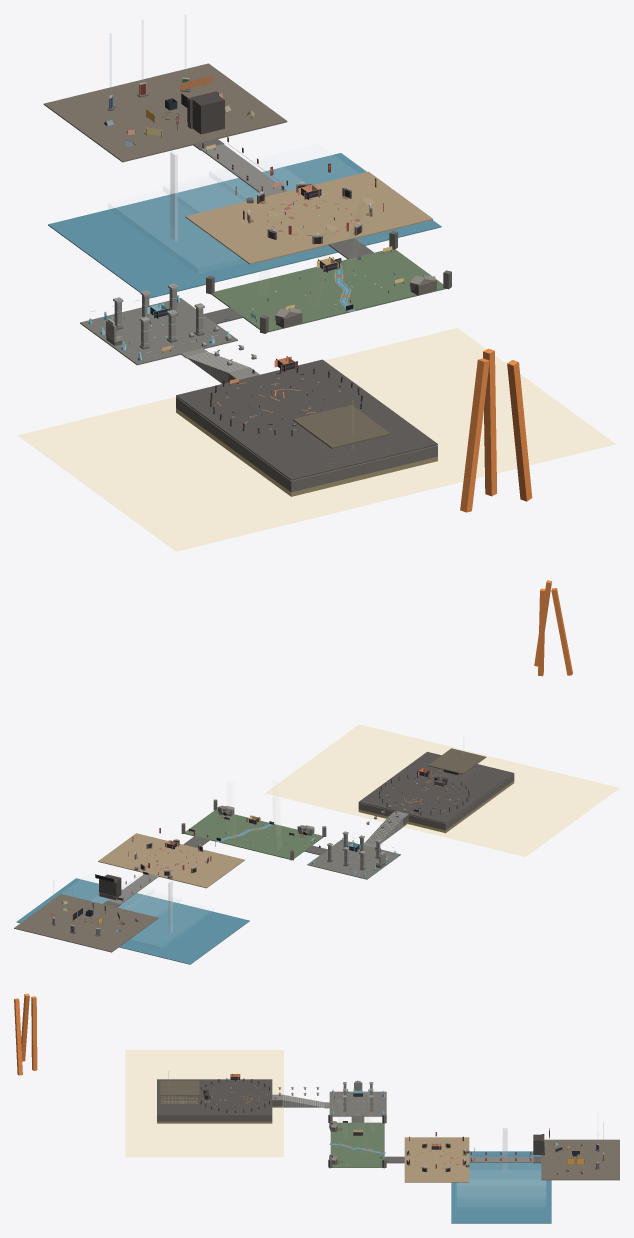
Rendered from emberhold_static_blocks.glb.
3 views of the same model, one above another, from view 1: azimuth 30°, elevation 25°; view 2: azimuth 150°, elevation 25°; view 3: azimuth 270°, elevation 25° (orthographic). The views are drawn at different scales.
Visible parts, largest first — view 1: emberhold_static_blocks; view 2: emberhold_static_blocks; view 3: emberhold_static_blocks.
Boxes of the visible parts, bbox=[...] form: emberhold_static_blocks: bbox=[18, 15, 614, 550]; emberhold_static_blocks: bbox=[14, 580, 618, 964]; emberhold_static_blocks: bbox=[14, 993, 619, 1223].
Bounding box in the file's own units: 645 × 285 × 1145.
